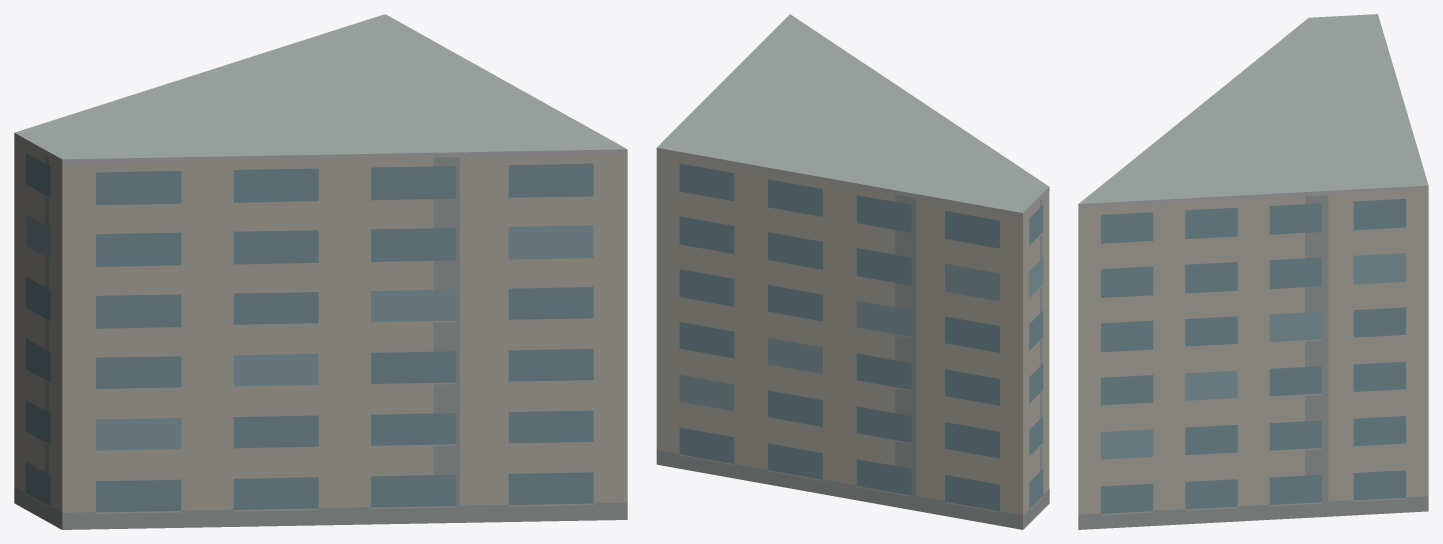
The model's file is residential-fccd888b-56ea-40ac-81bc-4e0506031e93.glb.
3 views of the same model, side by side, from view 1: azimuth 30°, elevation 25°; view 2: azimuth 150°, elevation 25°; view 3: azimuth 270°, elevation 25° (orthographic). The views are drawn at different scales.
Parts seen in each view (by area): view 1: residential-fccd888b-56ea-40ac-81bc-4e0506031e93.tmp; view 2: residential-fccd888b-56ea-40ac-81bc-4e0506031e93.tmp; view 3: residential-fccd888b-56ea-40ac-81bc-4e0506031e93.tmp.
Boxes of the visible parts, <box> form: residential-fccd888b-56ea-40ac-81bc-4e0506031e93.tmp: <box>14,14,627,529</box>; residential-fccd888b-56ea-40ac-81bc-4e0506031e93.tmp: <box>656,14,1049,529</box>; residential-fccd888b-56ea-40ac-81bc-4e0506031e93.tmp: <box>1078,14,1428,529</box>.
Size of the model in its own units: 22.9 by 18.3 by 17.84.
